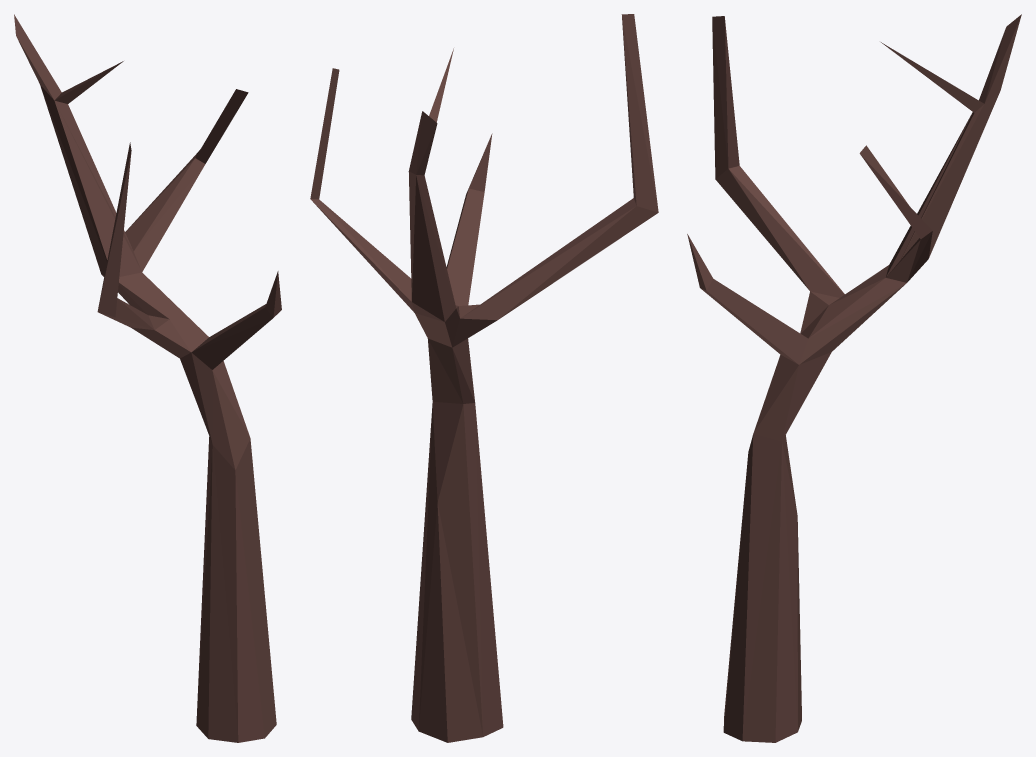
File: tree-common-dead-4.gltf
3 views of the same model, side by side, from view 1: azimuth 30°, elevation 25°; view 2: azimuth 150°, elevation 25°; view 3: azimuth 270°, elevation 25° (orthographic). The views are drawn at different scales.
Visible parts, largest first — view 1: CommonTree_Dead_4_Cube.001; view 2: CommonTree_Dead_4_Cube.001; view 3: CommonTree_Dead_4_Cube.001.
Part boxes in pixels (box(x1,y1,x2,y2)): CommonTree_Dead_4_Cube.001: box(14, 14, 281, 742); CommonTree_Dead_4_Cube.001: box(310, 14, 658, 742); CommonTree_Dead_4_Cube.001: box(687, 14, 1021, 742).
Size of the model in its own units: 0.0083 by 0.0237 by 0.0108.
